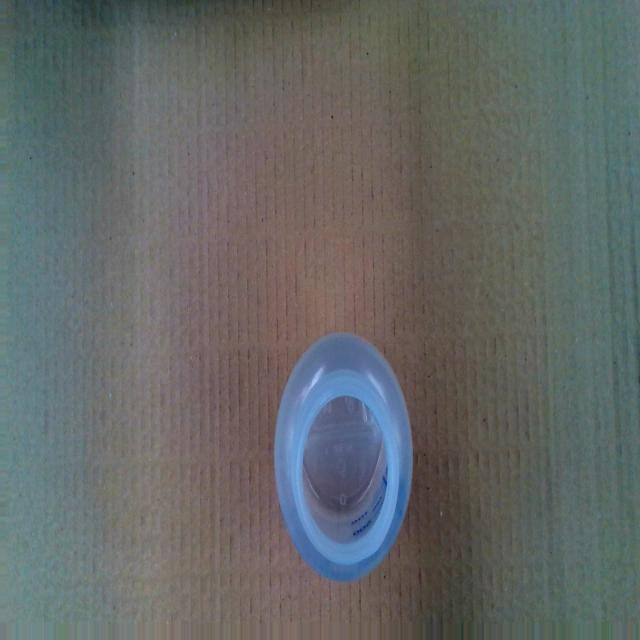bottle: (273, 330, 417, 585)
